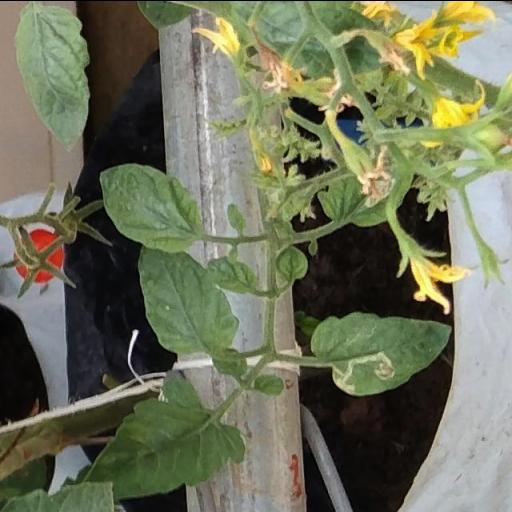Leaf Miner: (307, 310, 456, 394)
